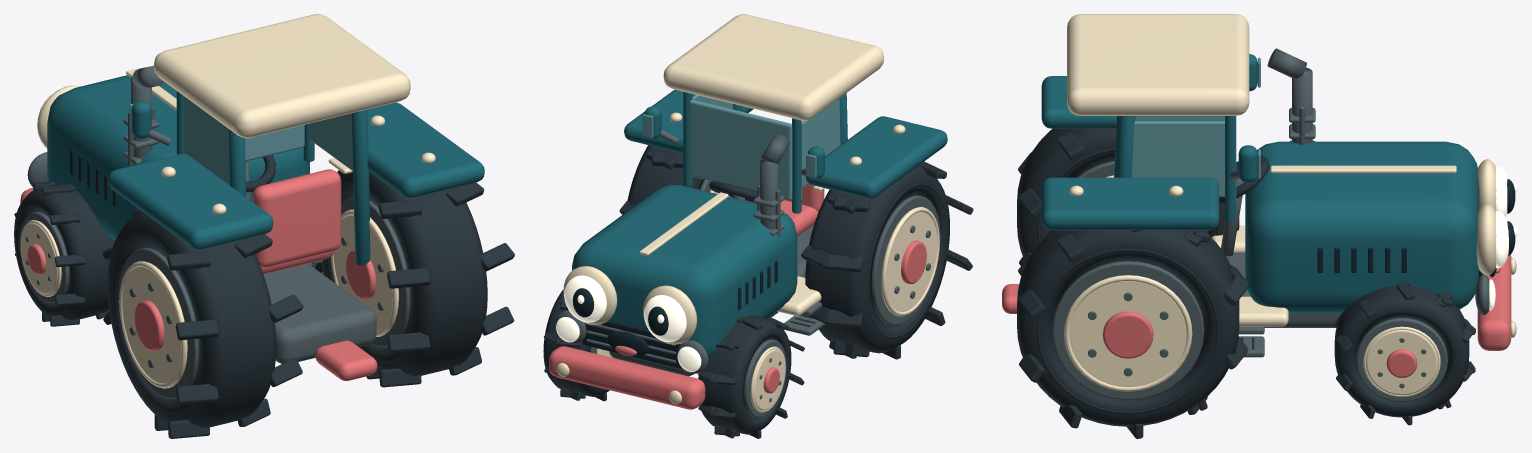
File: tatu.glb
3 views of the same model, side by side, from view 1: azimuth 30°, elevation 25°; view 2: azimuth 150°, elevation 25°; view 3: azimuth 270°, elevation 25° (orthographic). The views are drawn at different scales.
Parts seen in each view (by area): view 1: Body, WheelRL, Roof, WheelRR, Hood, WheelFL, Eyes; view 2: Roof, Hood, WheelRL, Body, WheelFL, Bumper, Eyes, WheelRR, WheelFR; view 3: WheelRR, Hood, Roof, Body, WheelFR, WheelRL, Eyes, Bumper.
Part boxes in pixels (<box>): Body: <box>27,65,484,380</box>; WheelRL: <box>102,208,303,438</box>; Roof: <box>154,14,410,265</box>; WheelRR: <box>315,170,514,387</box>; Hood: <box>47,69,309,240</box>; WheelFL: <box>14,180,114,326</box>; Eyes: <box>37,85,80,148</box>; Roof: <box>663,14,883,213</box>; Hood: <box>572,184,797,368</box>; WheelRL: <box>801,161,973,359</box>; Body: <box>555,89,947,376</box>; WheelFL: <box>698,315,804,438</box>; Bumper: <box>549,346,705,409</box>; Eyes: <box>563,266,697,344</box>; WheelRR: <box>619,145,731,214</box>; WheelFR: <box>543,290,612,401</box>; WheelRR: <box>1017,230,1248,438</box>; Hood: <box>1245,141,1486,312</box>; Roof: <box>1067,14,1249,221</box>; Body: <box>1002,48,1500,357</box>; WheelFR: <box>1334,282,1475,425</box>; WheelRL: <box>1017,128,1239,265</box>; Eyes: <box>1476,159,1517,275</box>; Bumper: <box>1477,254,1516,350</box>.
Bounding box in the file's own units: 3.18 × 2.96 × 4.3.
